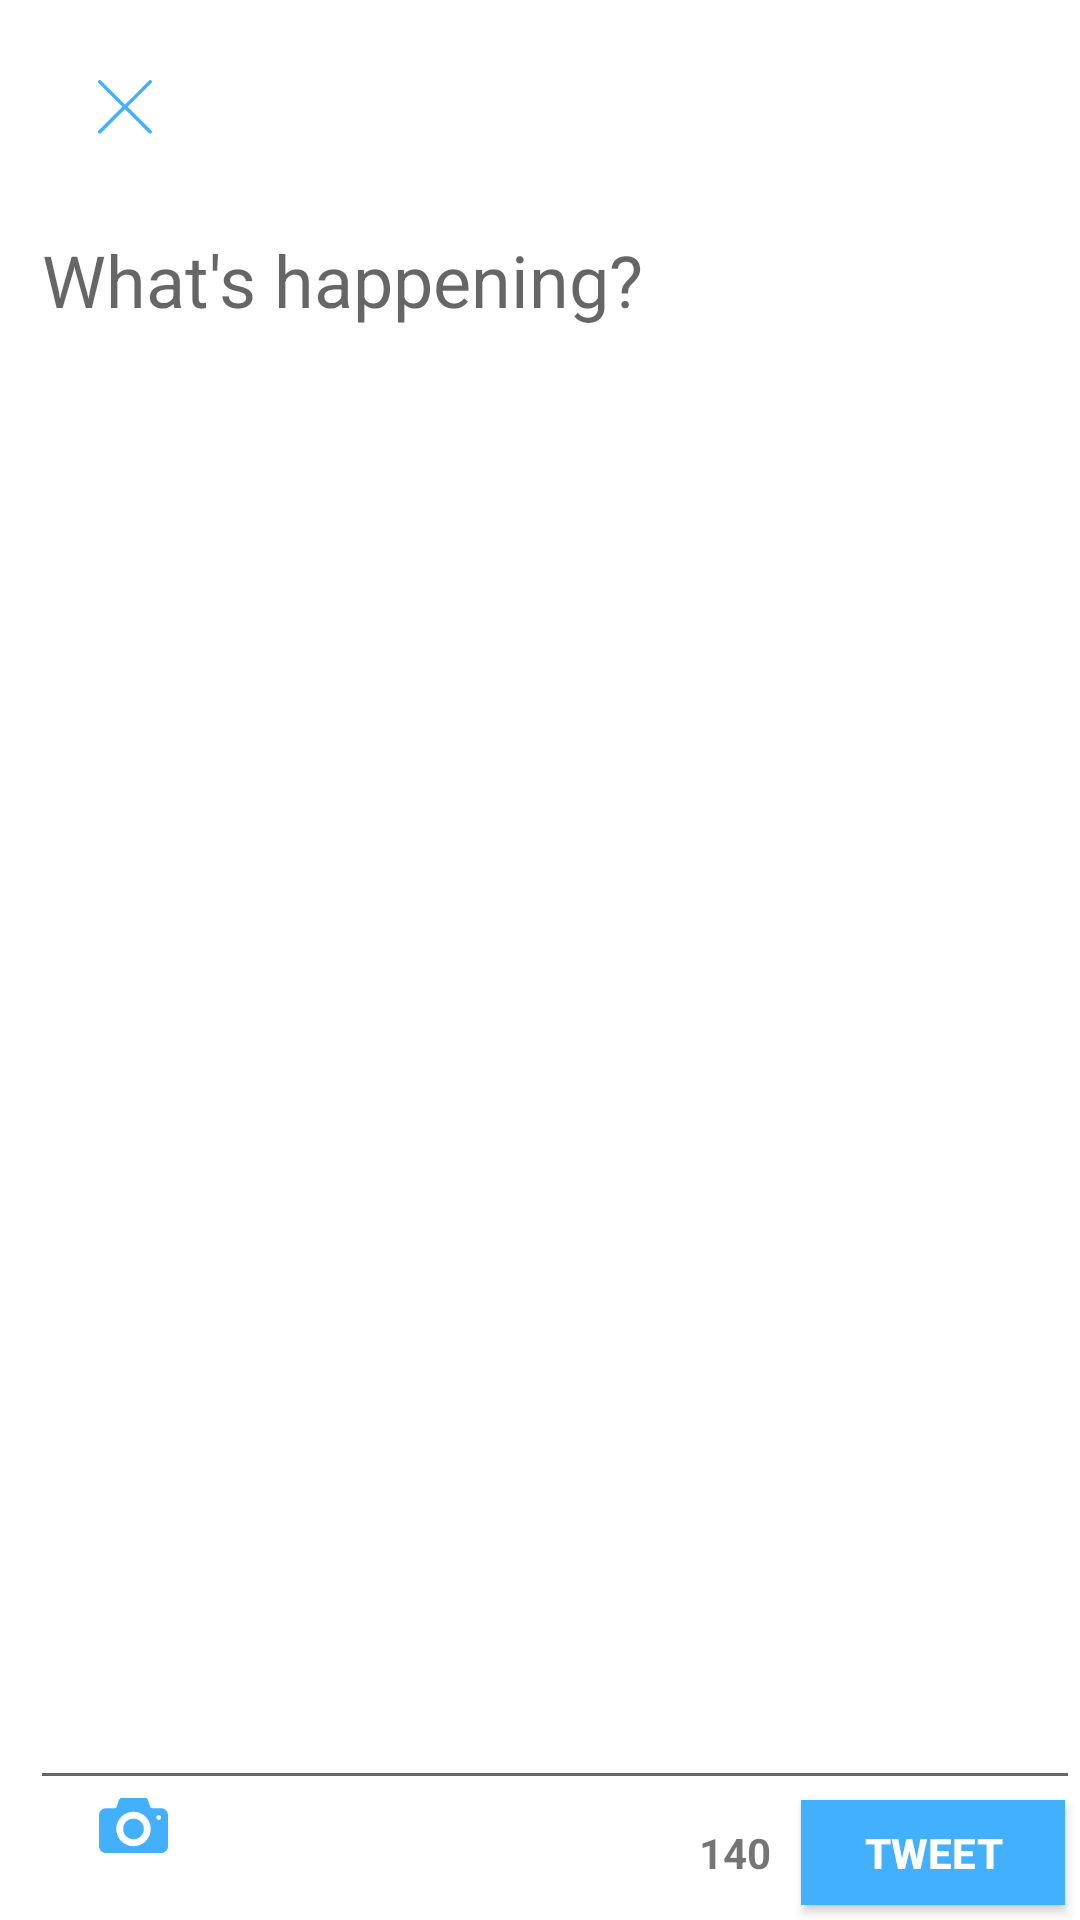

Where to tap for icons on this 1080*1920 app screen, as (x,y):
cancel: (125,107)
photo camera: (133,1825)
